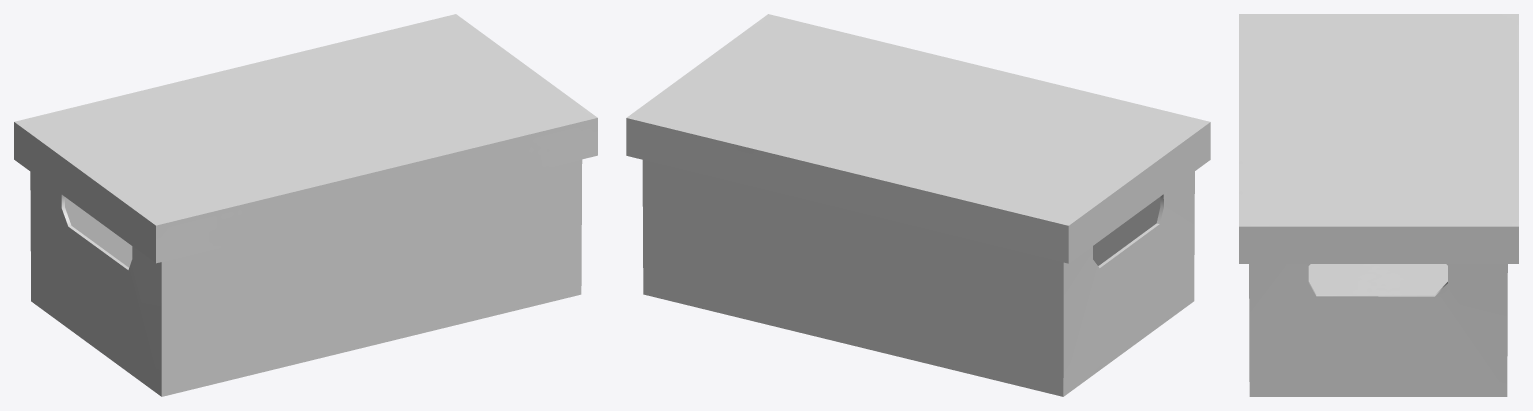
File: Pfb_PaperBox__12.fbx
The picture shows the model from 3 angles, left to right: view 1: azimuth 30°, elevation 25°; view 2: azimuth 150°, elevation 25°; view 3: azimuth 270°, elevation 25°; orthographic projection.
Visible parts, largest first — view 1: Mat_PaperBox_01_02 3; view 2: Mat_PaperBox_01_02 3; view 3: Mat_PaperBox_01_02 3.
Part boxes in pixels (x1=…): Mat_PaperBox_01_02 3: x1=14, y1=14, x2=597, y2=396; Mat_PaperBox_01_02 3: x1=626, y1=14, x2=1210, y2=396; Mat_PaperBox_01_02 3: x1=1239, y1=14, x2=1518, y2=396.
Bounding box in the file's own units: 1.34 × 0.5169 × 0.7468.
Materials: 1 (1 with a texture image).
